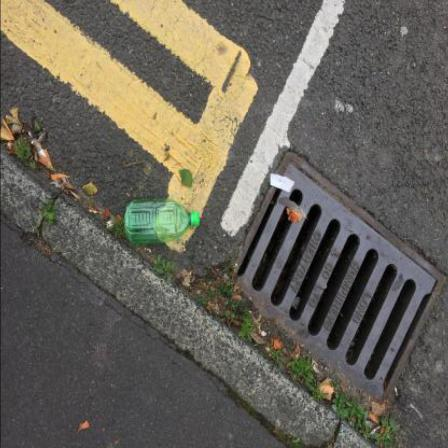Bottle: (125, 199, 200, 245)
Paper: (271, 174, 295, 193)
